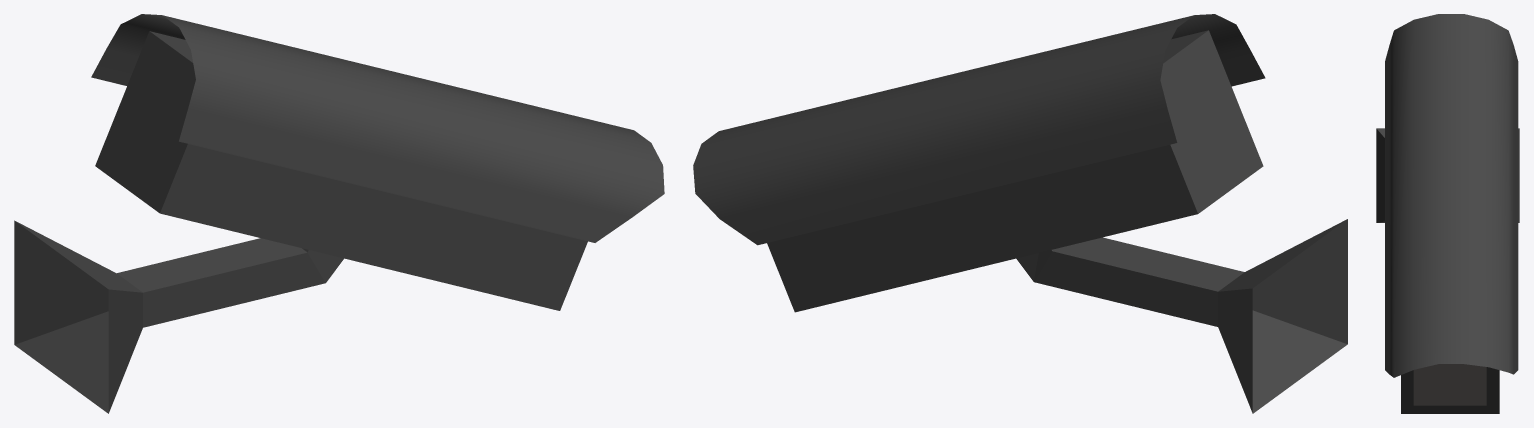
Rendered from SM_Webkam_01.FBX.
3 renders of one model, left to right at view 1: azimuth 30°, elevation 25°; view 2: azimuth 150°, elevation 25°; view 3: azimuth 270°, elevation 25°, orthographic. The views are drawn at different scales.
Parts seen in each view (by area): view 1: SM_Webkam_01; view 2: SM_Webkam_01; view 3: SM_Webkam_01.
Part boxes in pixels (<box>): SM_Webkam_01: <box>14,14,664,413</box>; SM_Webkam_01: <box>693,14,1347,413</box>; SM_Webkam_01: <box>1376,14,1519,413</box>.
Size of the model in its own units: 44.1 by 12.34 by 25.46.
